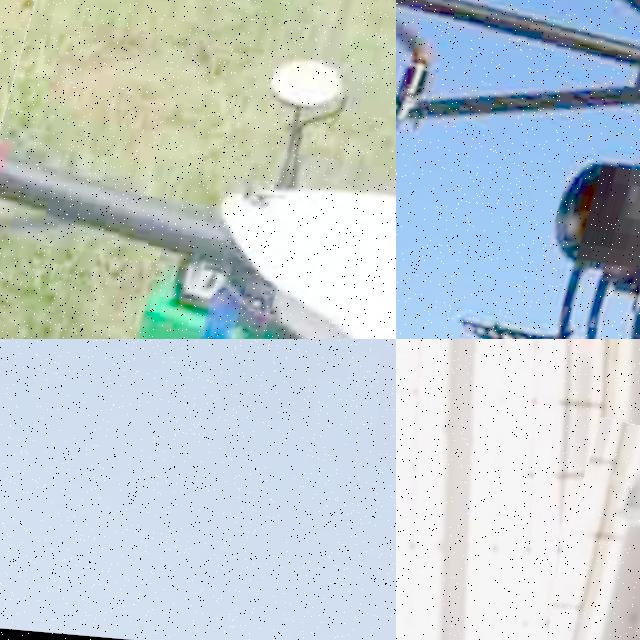drone: (0, 0, 396, 339), (396, 0, 640, 339), (544, 420, 640, 640)
